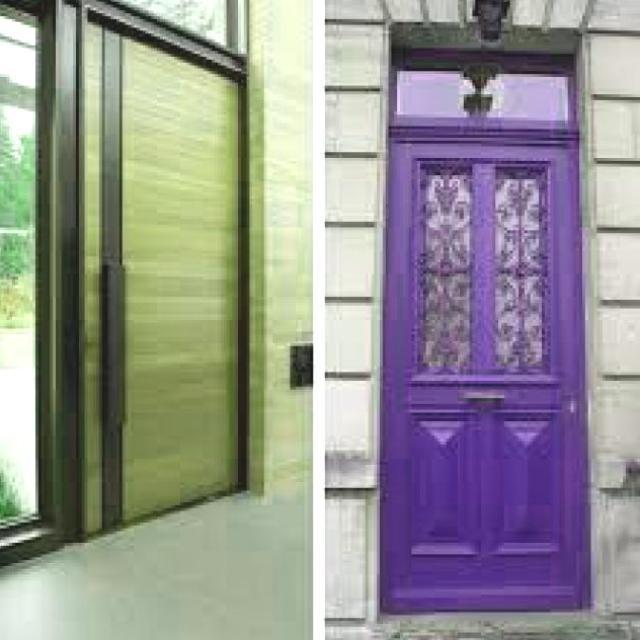door: (356, 5, 610, 635), (70, 4, 264, 563)
